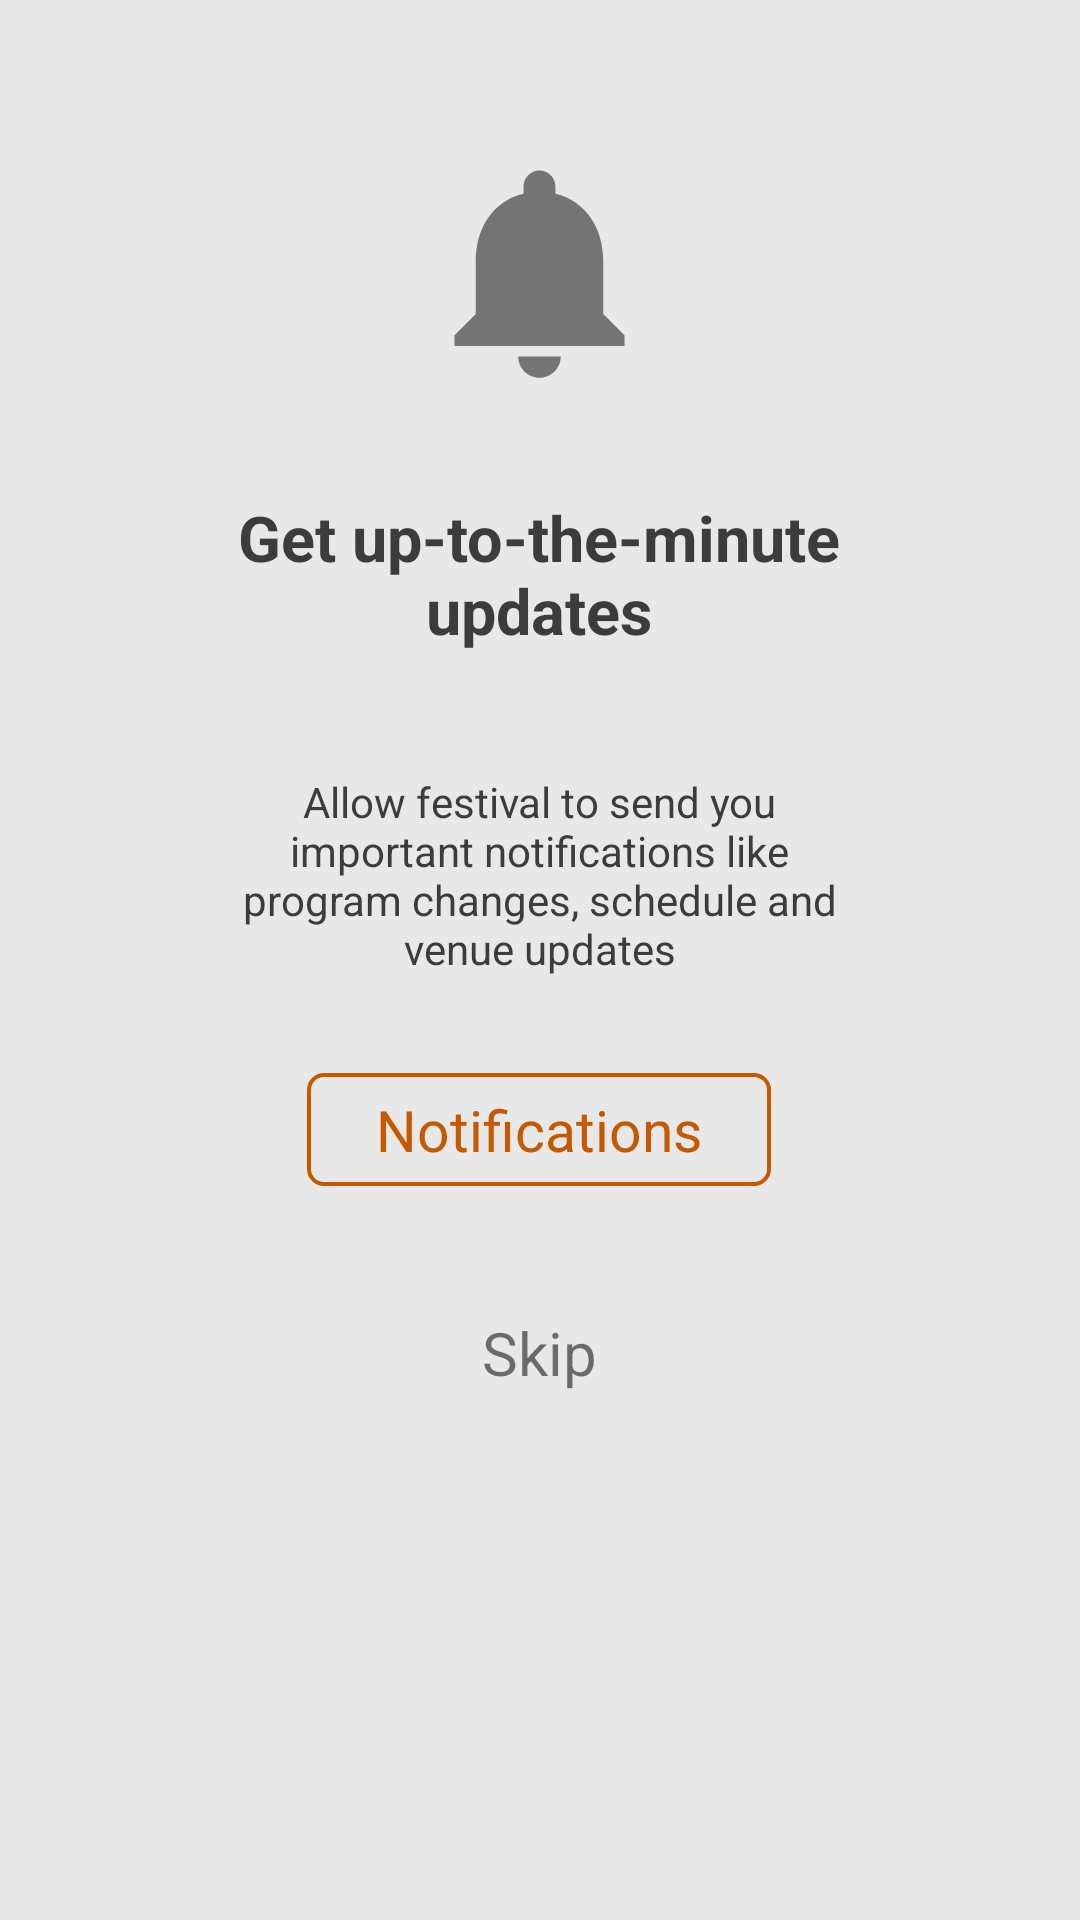

Icon bounding boxes for this 1080 × 1920 phone screenshot, format (x1, y1, x2, y2):
notifications: (454, 170, 625, 378)
